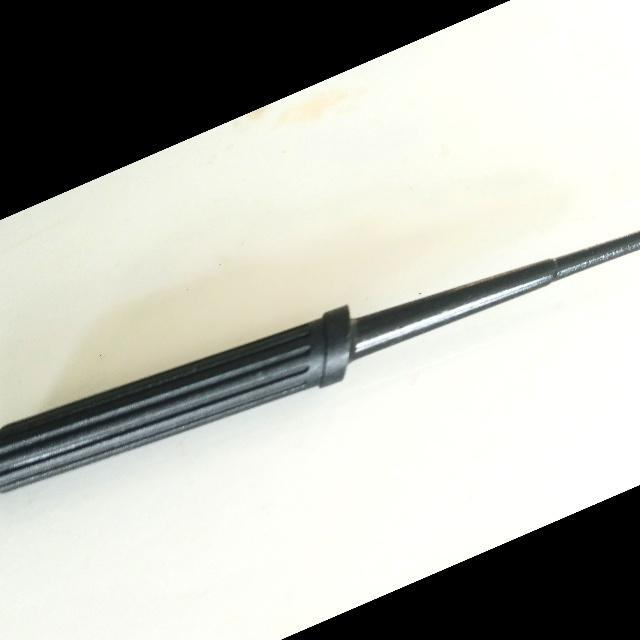Screw Driver: (0, 130, 640, 558)
